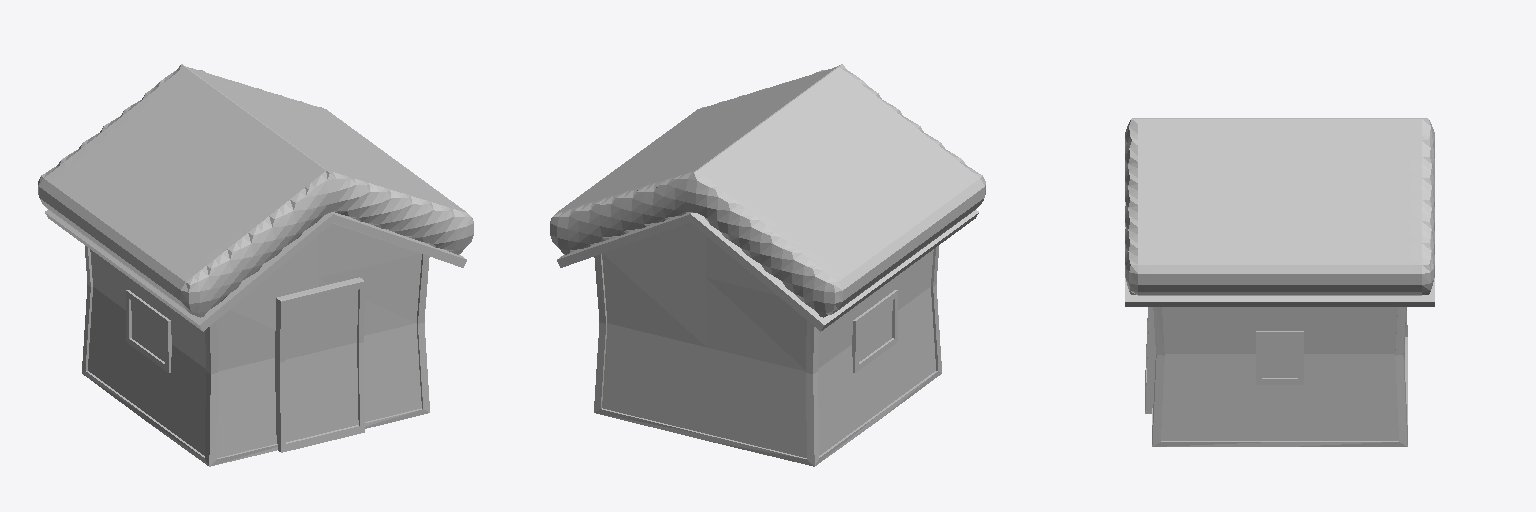
File: House_4.obj
3 views of the same model, side by side, from view 1: azimuth 30°, elevation 25°; view 2: azimuth 150°, elevation 25°; view 3: azimuth 270°, elevation 25° (orthographic).
Parts seen in each view (by area): view 1: Rooftop_Snow_1, Base_Building_1, Door_1, Frame_1, Roof_1, window_1_1; view 2: Rooftop_Snow_1, Base_Building_1, Frame_1, Roof_1, window_1_1; view 3: Rooftop_Snow_1, Base_Building_1, Frame_1, Roof_1, Window_1_2, Door_1.
Boxes of the visible parts, x1,y1,x2,y2 form: Rooftop_Snow_1: [38, 64, 473, 317]; Base_Building_1: [88, 223, 421, 457]; Door_1: [275, 277, 364, 452]; Frame_1: [82, 223, 429, 466]; Roof_1: [45, 210, 466, 331]; window_1_1: [126, 290, 171, 372]; Rooftop_Snow_1: [550, 64, 985, 317]; Base_Building_1: [602, 223, 935, 457]; Frame_1: [594, 223, 941, 466]; Roof_1: [557, 210, 978, 331]; window_1_1: [852, 290, 897, 372]; Rooftop_Snow_1: [1125, 118, 1434, 295]; Base_Building_1: [1161, 307, 1404, 440]; Frame_1: [1152, 307, 1407, 446]; Roof_1: [1125, 202, 1434, 306]; Window_1_2: [1256, 331, 1303, 384]; Door_1: [1145, 307, 1155, 413].
Size of the model in its own units: 1.29 by 1.15 by 1.18.